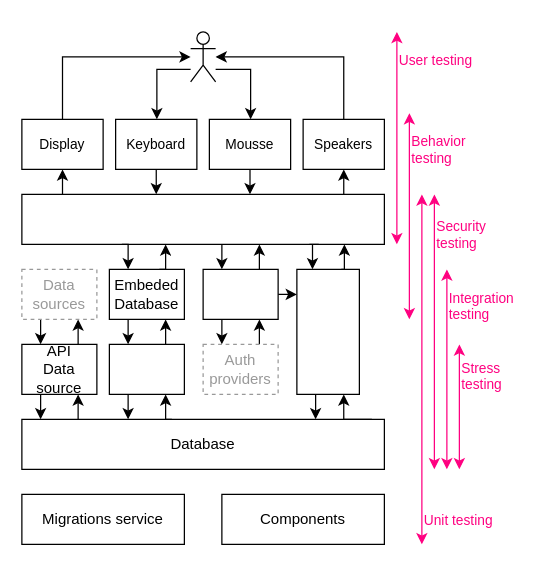
Some shapes in this 536 by 578 pixel diagram are drawn without their labels. Here are the shapes that lost their labels. From the top down, the centre of each, then its label:
[202,56]: User
[202,218]: Application Client
[240,293]: API Gateway
[327,331]: API
[146,368]: Sync Layer
